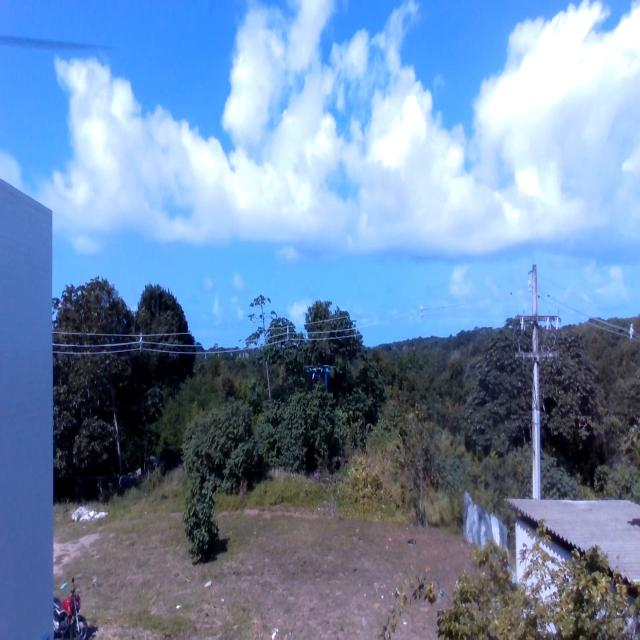-uav-: (301, 351, 344, 415)
